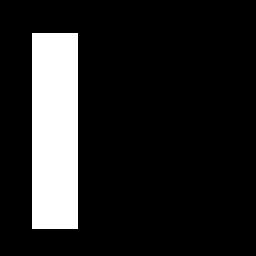person: (32, 33, 77, 228)
